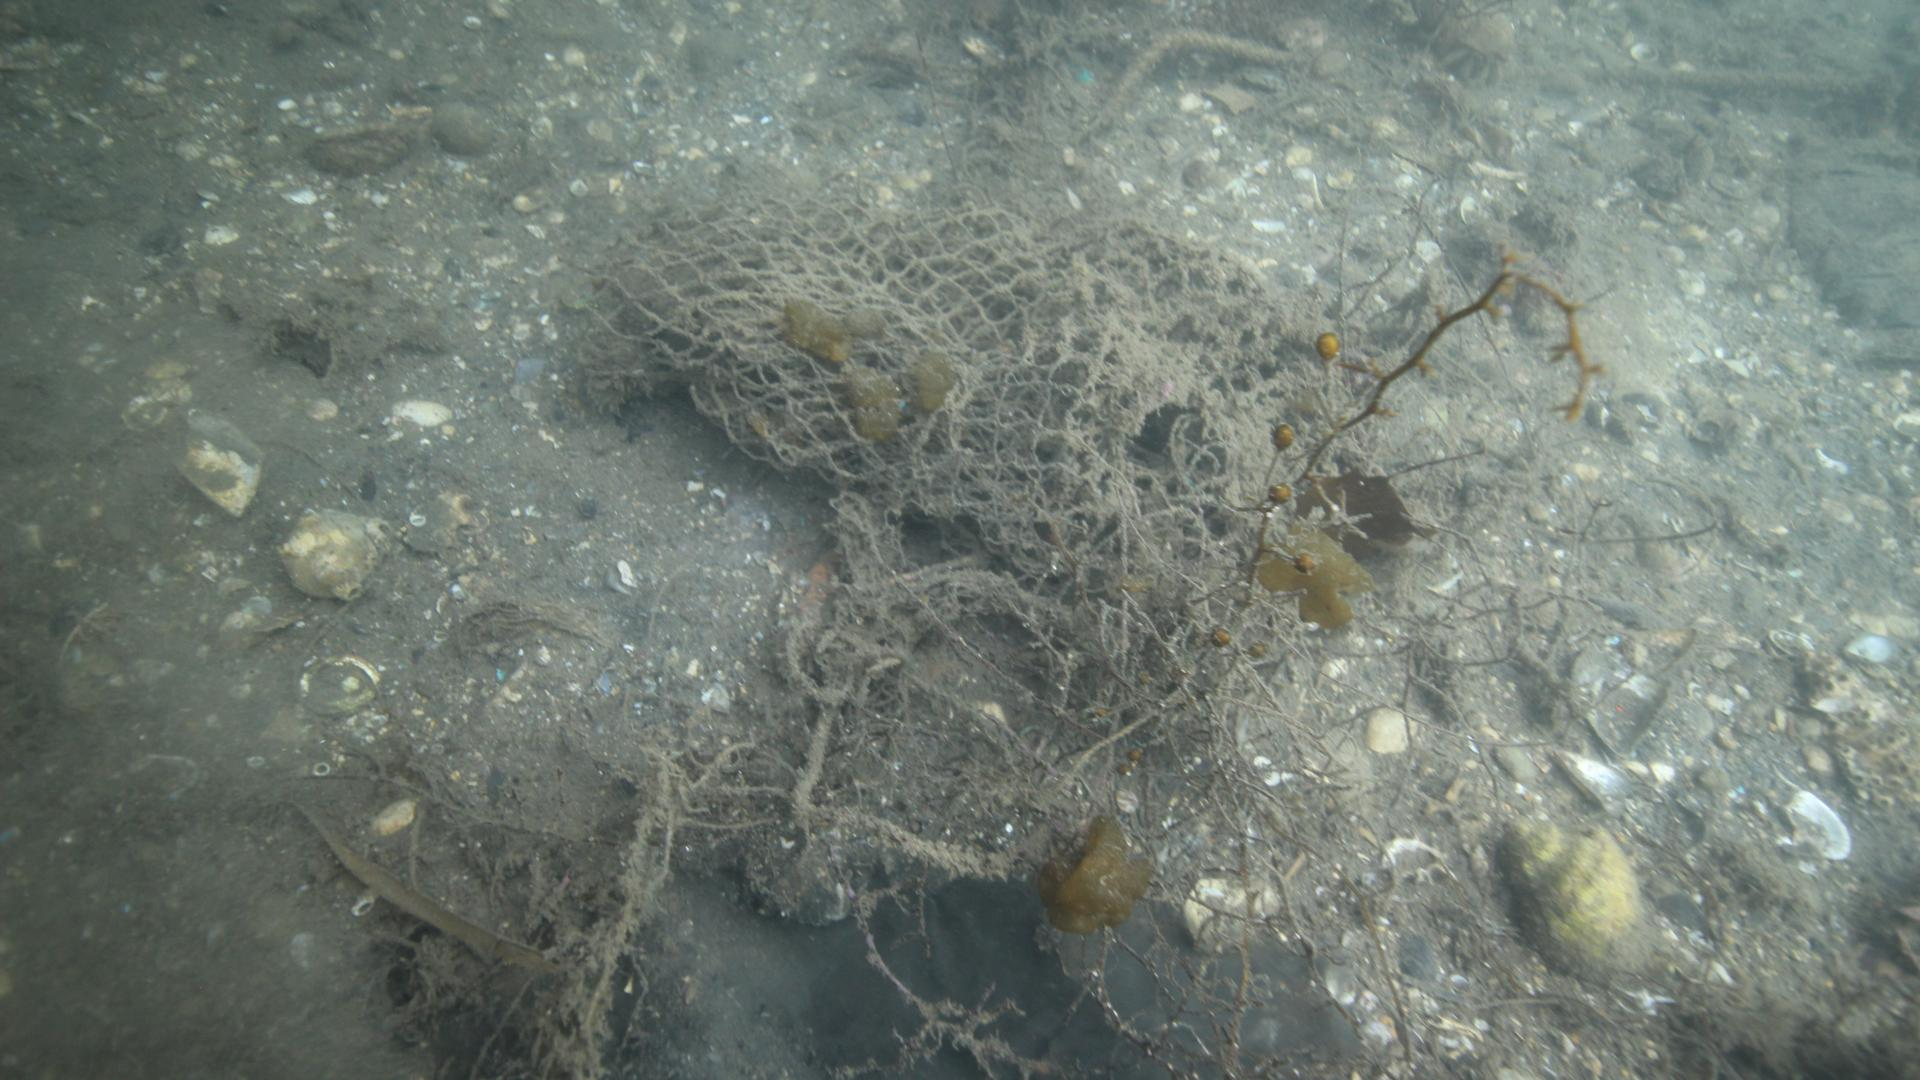fish net: (582, 193, 1288, 580)
